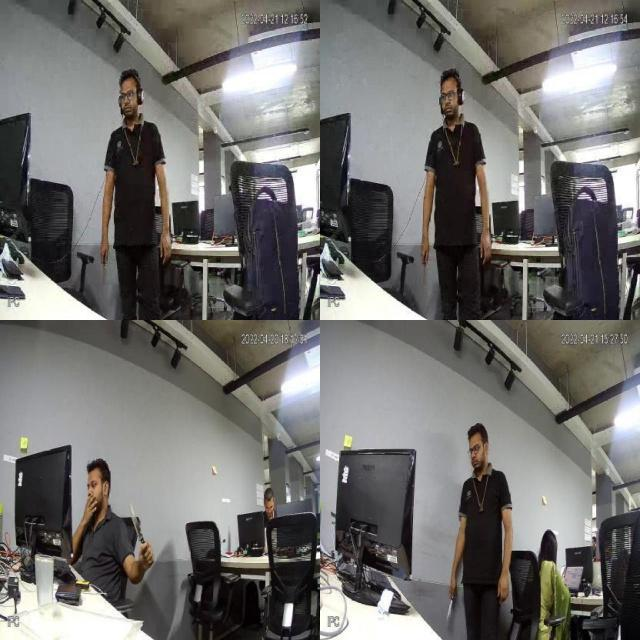-: (127, 499, 149, 552), (420, 244, 431, 288), (97, 252, 108, 291), (442, 592, 455, 622)
